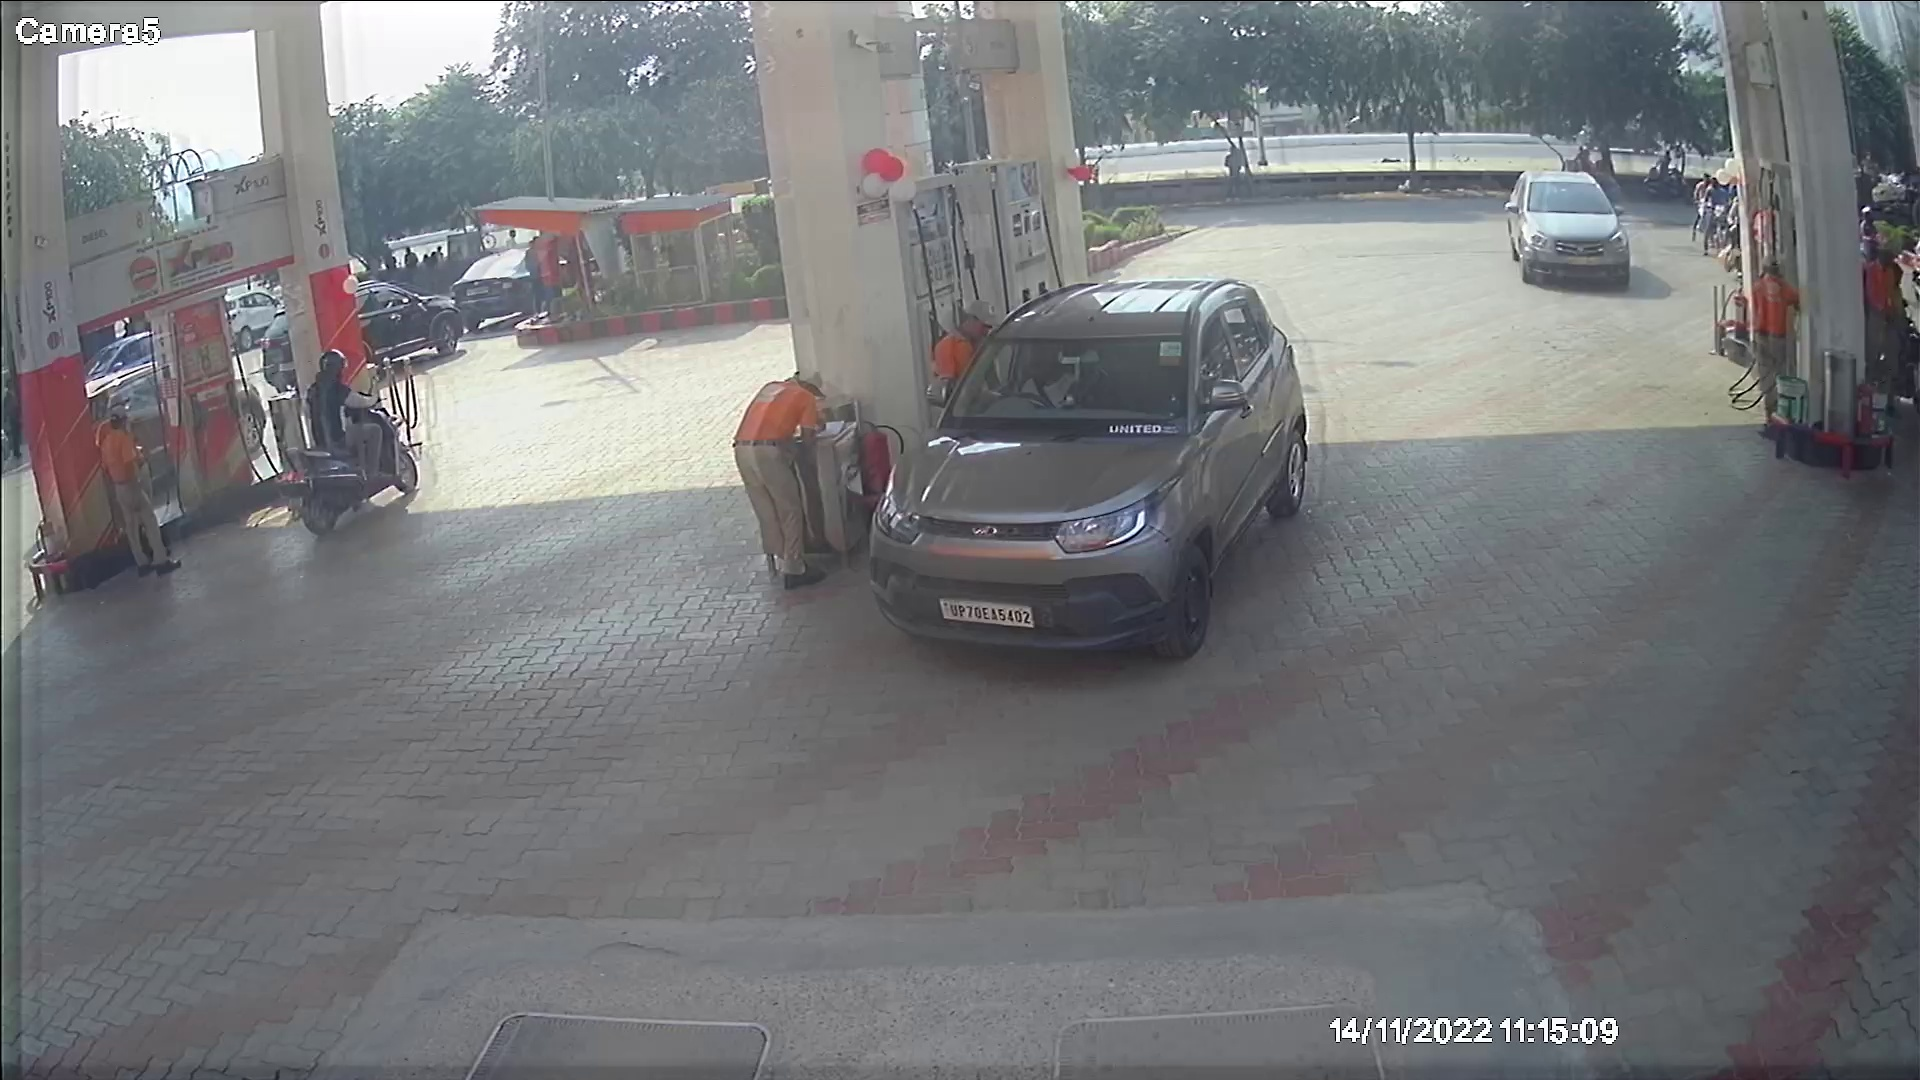Bike: (266, 339, 429, 542), (1862, 237, 1917, 426), (1684, 164, 1742, 269), (1855, 194, 1898, 284)
Car: (860, 253, 1329, 682), (1497, 162, 1638, 291), (443, 236, 582, 334), (349, 269, 471, 368)
Others: (731, 356, 833, 593), (102, 392, 181, 579), (1859, 225, 1913, 433), (1741, 247, 1797, 440), (926, 285, 1002, 426), (92, 382, 136, 493)
